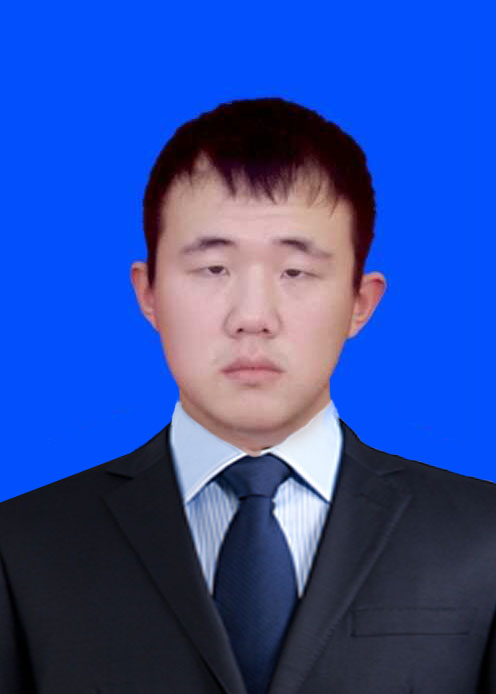unmask: (161, 173, 351, 422)
